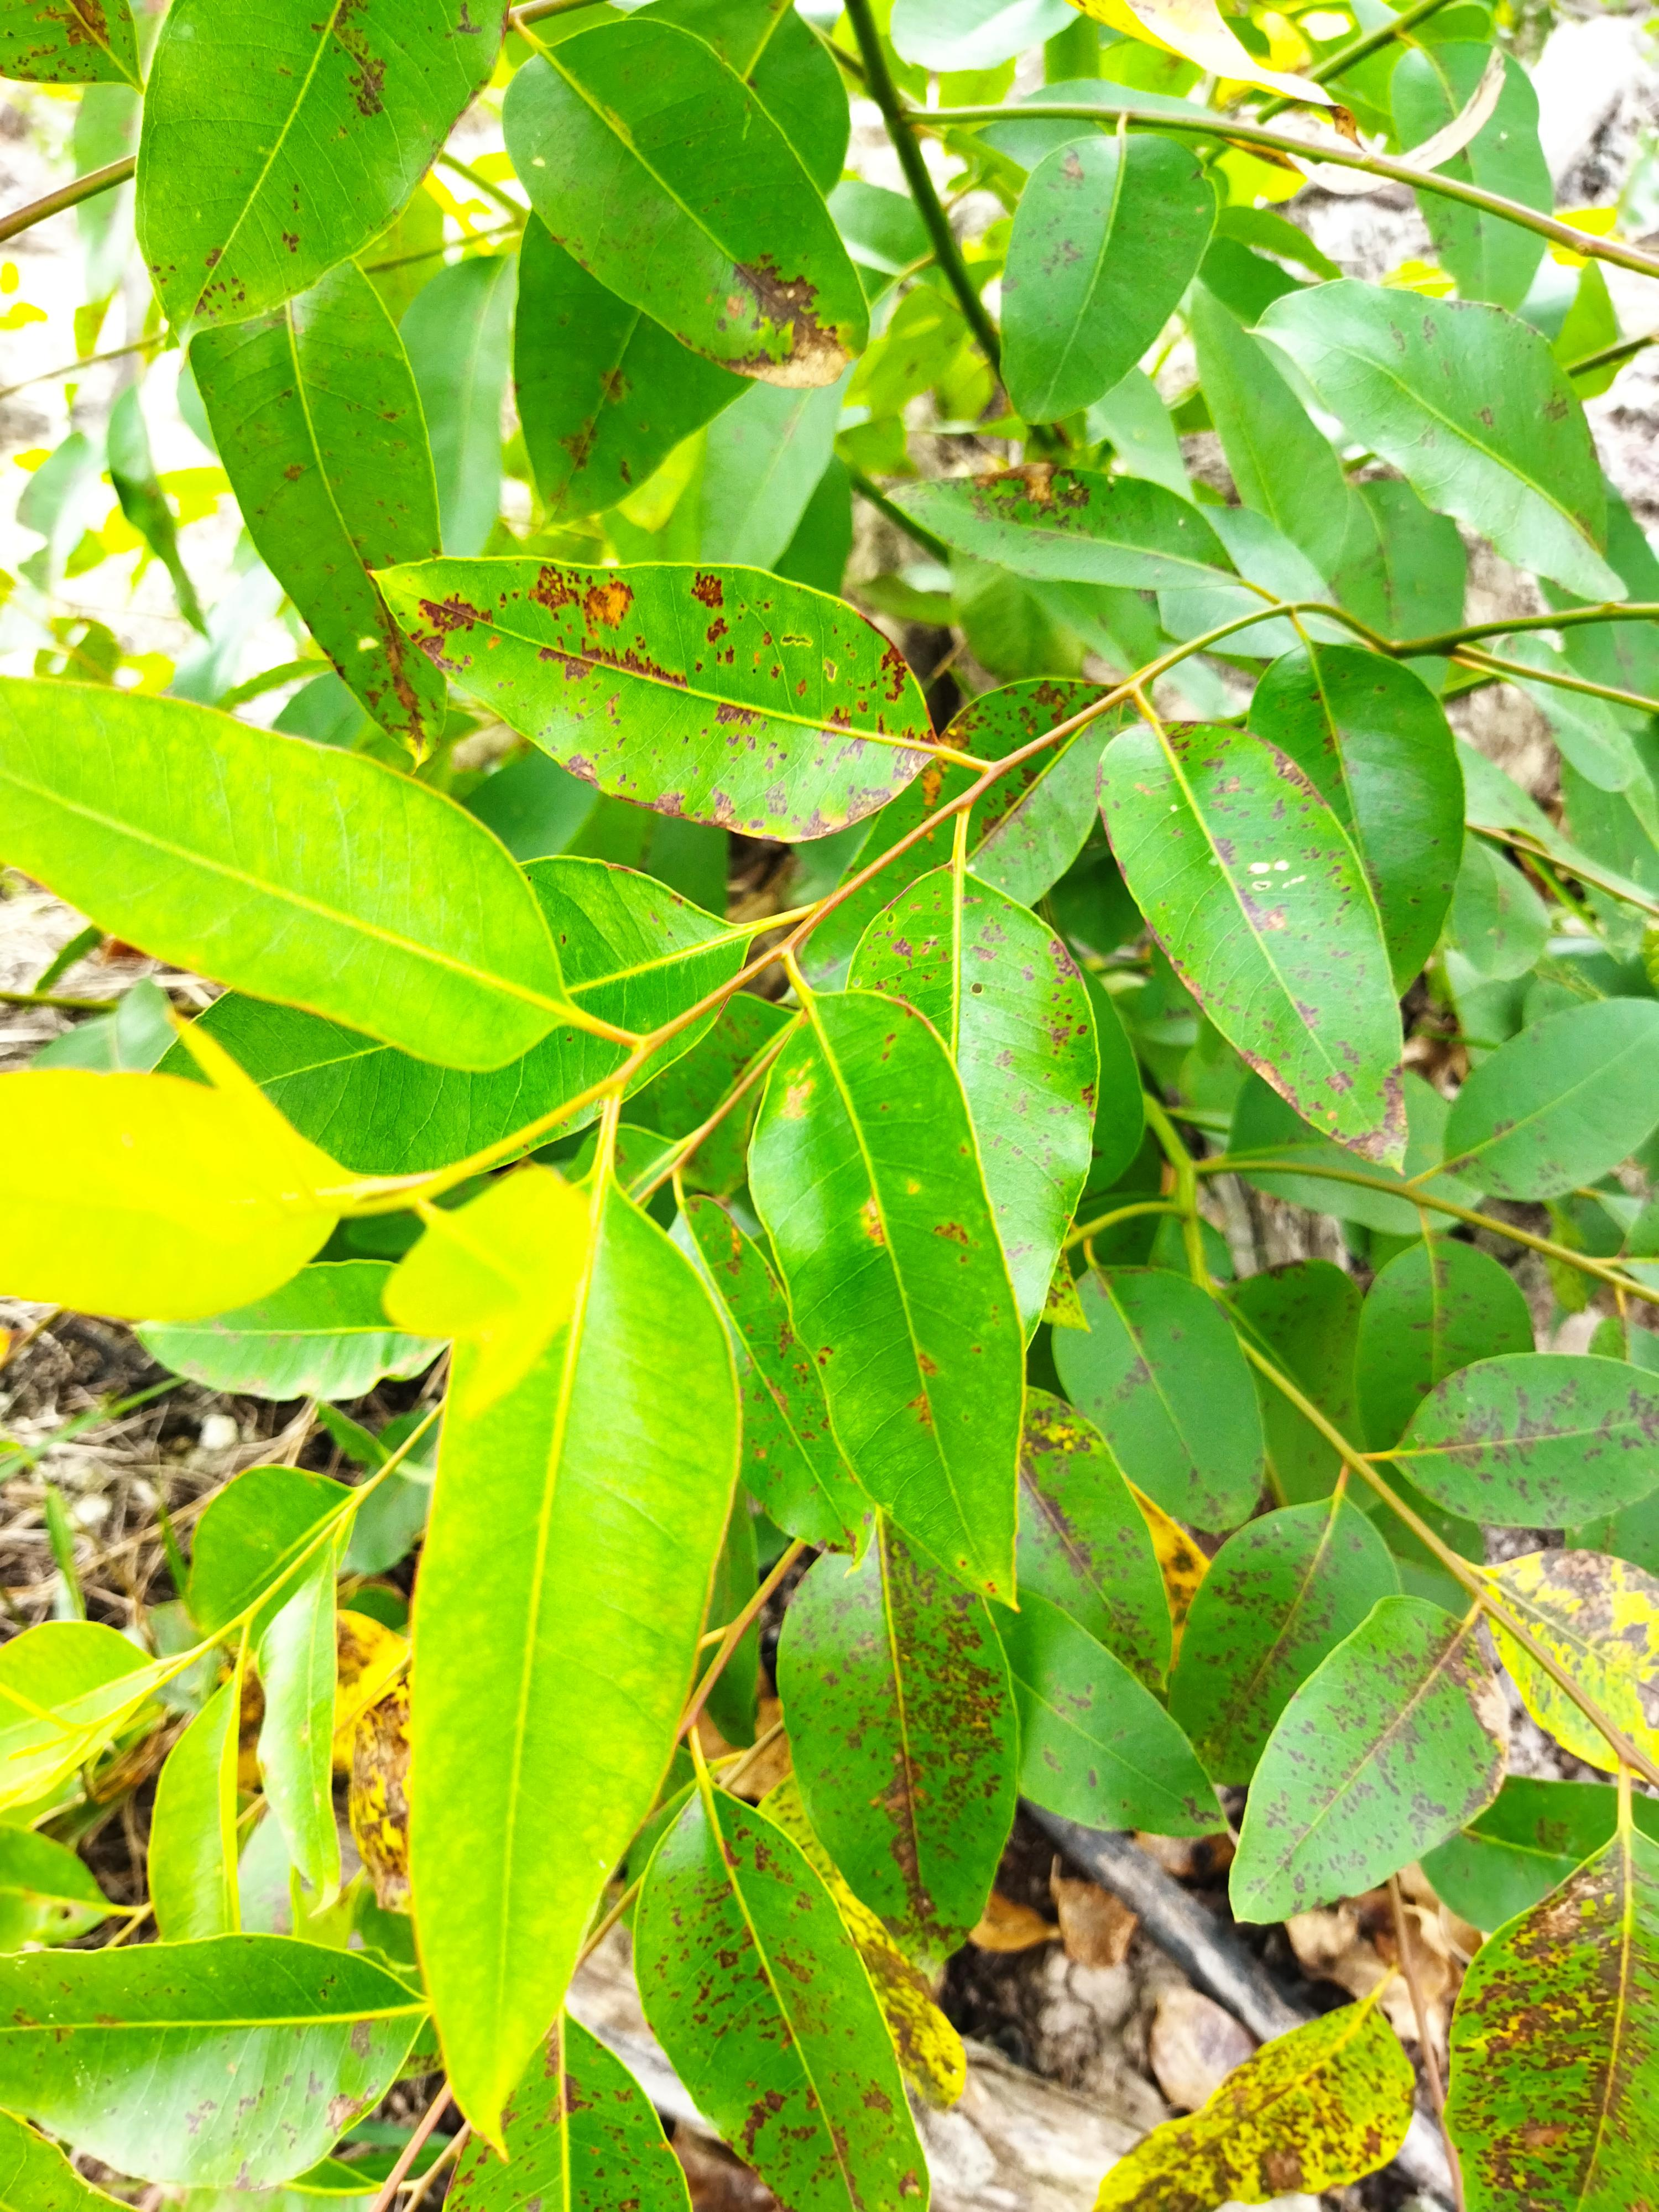Xanthomonas: (371, 549, 934, 831), (592, 1838, 913, 2212), (781, 1510, 1028, 1970), (1478, 1832, 1659, 2212), (1107, 2008, 1399, 2212), (1180, 1489, 1354, 1787)
